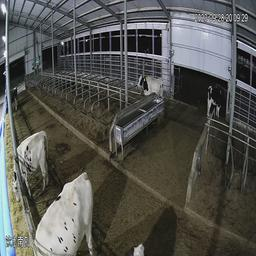cow: (33, 169, 91, 247), (7, 129, 49, 200), (203, 79, 225, 117), (138, 73, 166, 101), (5, 87, 20, 114)
